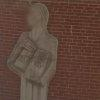Statue: (13, 4, 61, 100)
